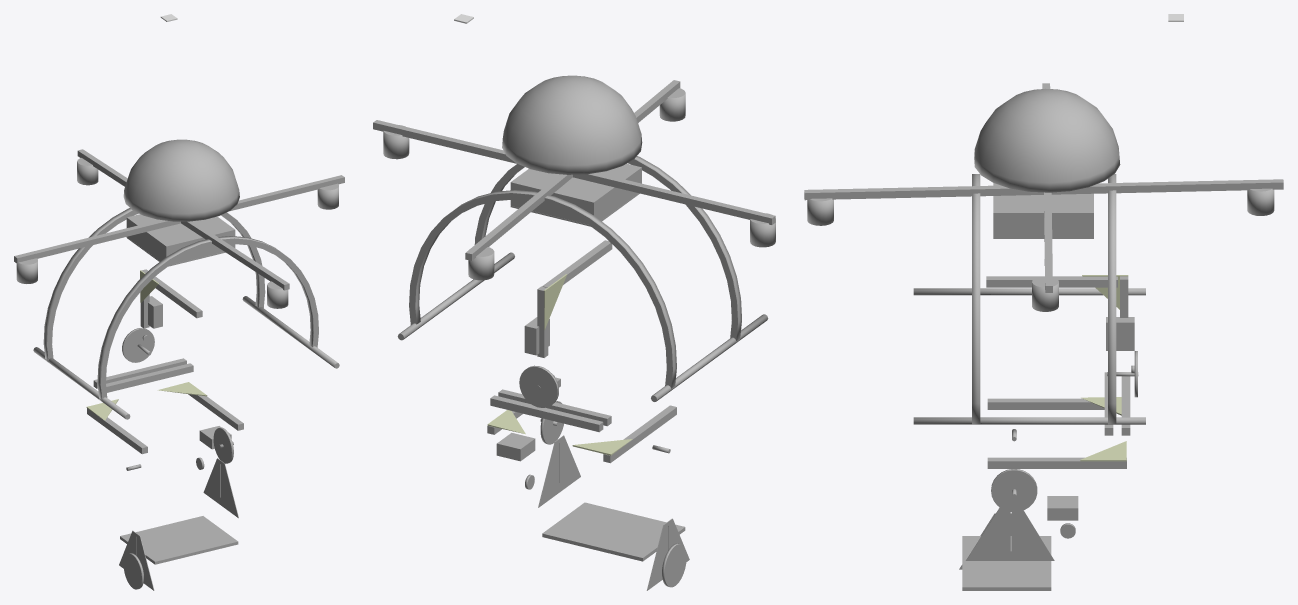
Rendered from QuadXL-noCamera3.DAE.
3 renders of one model, left to right at view 1: azimuth 30°, elevation 25°; view 2: azimuth 150°, elevation 25°; view 3: azimuth 270°, elevation 25°, orthographic. The views are drawn at different scales.
Parts seen in each view (by area): view 1: Quadro_Bulle, Quadro_TrainAvant, Box007, Quadro_BlocBatterie, Quadro_BrasLateral, Quadro_TrainArriere, Quadro_brasLongitudinalAvant, Box008, Box003, Cylinder002, Quadro_TrainGche, Quadro_TrainDte (+12 smaller); view 2: Quadro_Bulle, Quadro_TrainArriere, Box007, Quadro_BlocBatterie, Quadro_BrasLateral, Quadro_TrainAvant, Box008, Quadro_brasLongitudinalArriere, Box004, Cylinder002, Quadro_TrainDte, Quadro_TrainGche (+14 smaller); view 3: Quadro_Bulle, Quadro_BlocBatterie, Box007, Box008, Quadro_brasLongitudinalAvant, Quadro_brasLongitudinalArriere, Quadro_TrainAvant, Quadro_TrainArriere, Quadro_TrainGche, Cylinder005, Box005, Quadro_TrainDte (+8 smaller).
Boxes of the visible parts, x1=… form: Quadro_Bulle: x1=123, y1=139, x2=239, y2=221; Quadro_TrainAvant: x1=97, y1=236, x2=318, y2=401; Box007: x1=120, y1=516, x2=238, y2=564; Quadro_BlocBatterie: x1=126, y1=214, x2=235, y2=264; Quadro_BrasLateral: x1=14, y1=175, x2=344, y2=263; Quadro_TrainArriere: x1=43, y1=208, x2=265, y2=361; Quadro_brasLongitudinalAvant: x1=181, y1=221, x2=289, y2=290; Box008: x1=203, y1=458, x2=238, y2=518; Box003: x1=106, y1=363, x2=193, y2=392; Cylinder002: x1=122, y1=328, x2=154, y2=362; Quadro_TrainGche: x1=242, y1=296, x2=339, y2=368; Quadro_TrainDte: x1=33, y1=347, x2=130, y2=419; Quadro_Bulle: x1=502, y1=75, x2=642, y2=174; Quadro_TrainArriere: x1=409, y1=190, x2=676, y2=390; Box007: x1=542, y1=502, x2=685, y2=561; Quadro_BlocBatterie: x1=510, y1=163, x2=641, y2=224; Quadro_BrasLateral: x1=373, y1=120, x2=775, y2=224; Quadro_TrainAvant: x1=474, y1=156, x2=741, y2=342; Box008: x1=538, y1=435, x2=580, y2=507; Quadro_brasLongitudinalArriere: x1=465, y1=174, x2=572, y2=260; Box004: x1=490, y1=395, x2=603, y2=432; Cylinder002: x1=519, y1=365, x2=558, y2=407; Quadro_TrainDte: x1=651, y1=314, x2=768, y2=401; Quadro_TrainGche: x1=397, y1=252, x2=514, y2=340; Quadro_Bulle: x1=974, y1=89, x2=1120, y2=192; Quadro_BlocBatterie: x1=993, y1=183, x2=1093, y2=237; Box007: x1=962, y1=536, x2=1051, y2=590; Box008: x1=966, y1=507, x2=1054, y2=560; Quadro_brasLongitudinalAvant: x1=804, y1=185, x2=1043, y2=200; Quadro_brasLongitudinalArriere: x1=1051, y1=179, x2=1283, y2=194; Quadro_TrainAvant: x1=972, y1=174, x2=980, y2=424; Quadro_TrainArriere: x1=1108, y1=174, x2=1116, y2=424; Quadro_TrainGche: x1=913, y1=417, x2=1145, y2=424; Cylinder005: x1=991, y1=469, x2=1037, y2=512; Box005: x1=987, y1=457, x2=1126, y2=468; Quadro_TrainDte: x1=913, y1=288, x2=1145, y2=295.
Size of the model in its own units: 0.62 by 0.6197 by 0.8908.
